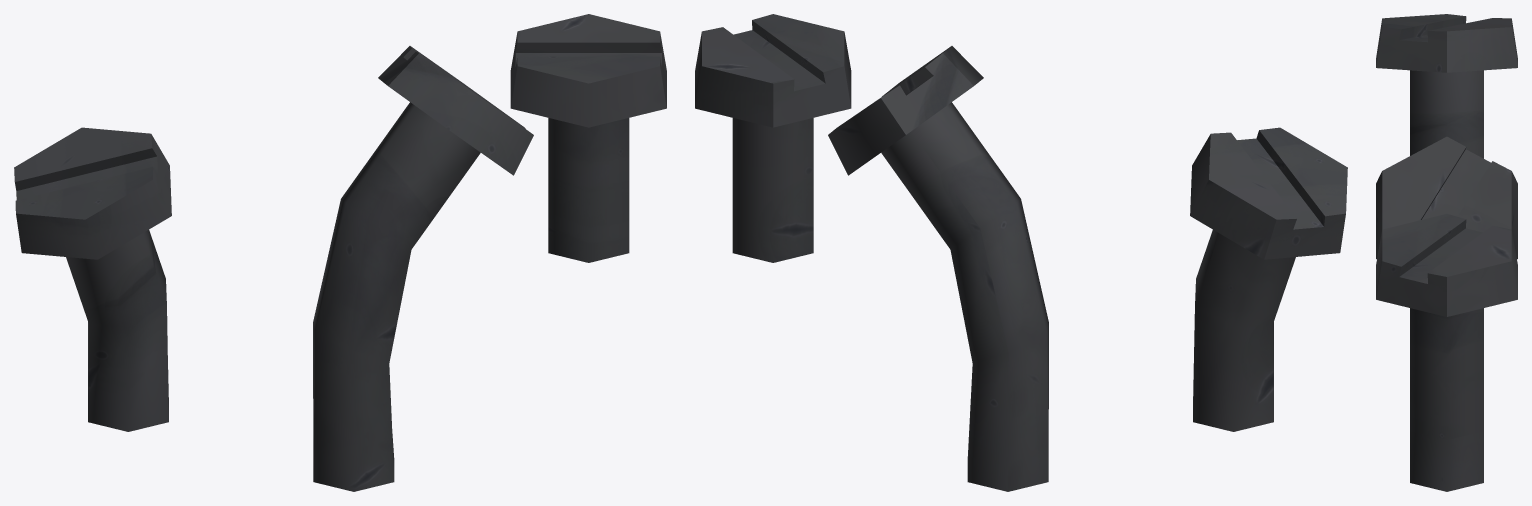
The model's file is Grab.FBX.
The picture shows the model from 3 angles, left to right: view 1: azimuth 30°, elevation 25°; view 2: azimuth 150°, elevation 25°; view 3: azimuth 270°, elevation 25°; orthographic projection. The views are drawn at different scales.
Visible parts, largest first — view 1: screwnail2, screwnail, screwnail3, Grab, Grab3; view 2: screwnail2, screwnail, screwnail3, Grab, Grab3; view 3: screwnail3, screwnail, Grab2, Grab3, screwnail2, Grab.
Part boxes in pixels (x1,y1,x2,y2): screwnail2: [313, 46, 533, 491]; screwnail: [16, 134, 171, 431]; screwnail3: [510, 32, 666, 262]; Grab: [14, 127, 157, 219]; Grab3: [515, 14, 661, 83]; screwnail2: [828, 46, 1048, 491]; screwnail: [1190, 134, 1345, 431]; screwnail3: [695, 32, 851, 262]; Grab: [1209, 127, 1347, 229]; Grab3: [702, 14, 844, 91]; screwnail3: [1376, 230, 1517, 439]; screwnail: [1376, 19, 1517, 158]; Grab2: [1382, 136, 1511, 232]; Grab3: [1382, 214, 1511, 283]; screwnail2: [1376, 171, 1517, 491]; Grab: [1382, 14, 1511, 42].
Size of the model in its own units: 186 by 110 by 38.73.
Materials: 3 (3 with a texture image).
